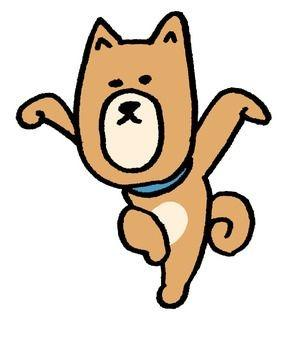non-dog: (12, 9, 274, 308)
